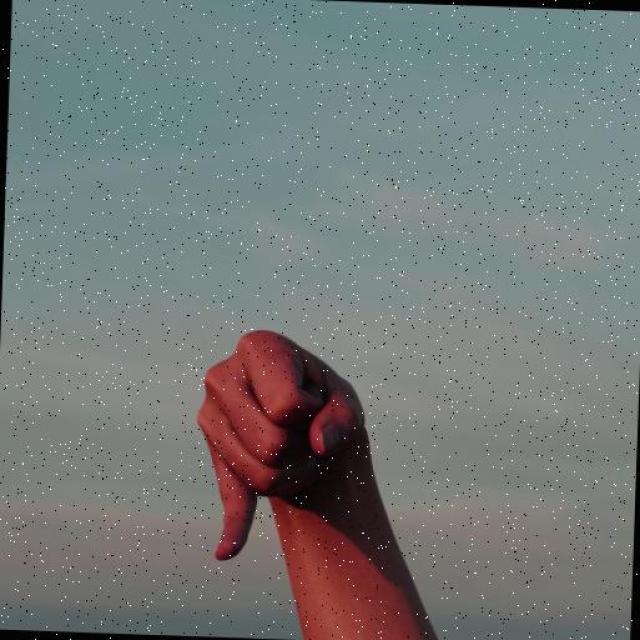J: (130, 308, 431, 602)
